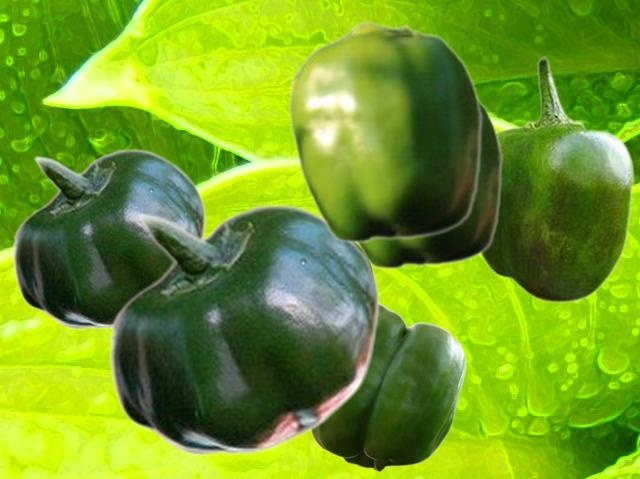bell_pepper: (107, 203, 379, 454), (288, 20, 482, 243), (479, 56, 634, 303), (11, 148, 205, 328), (311, 303, 465, 471), (359, 99, 502, 269)
